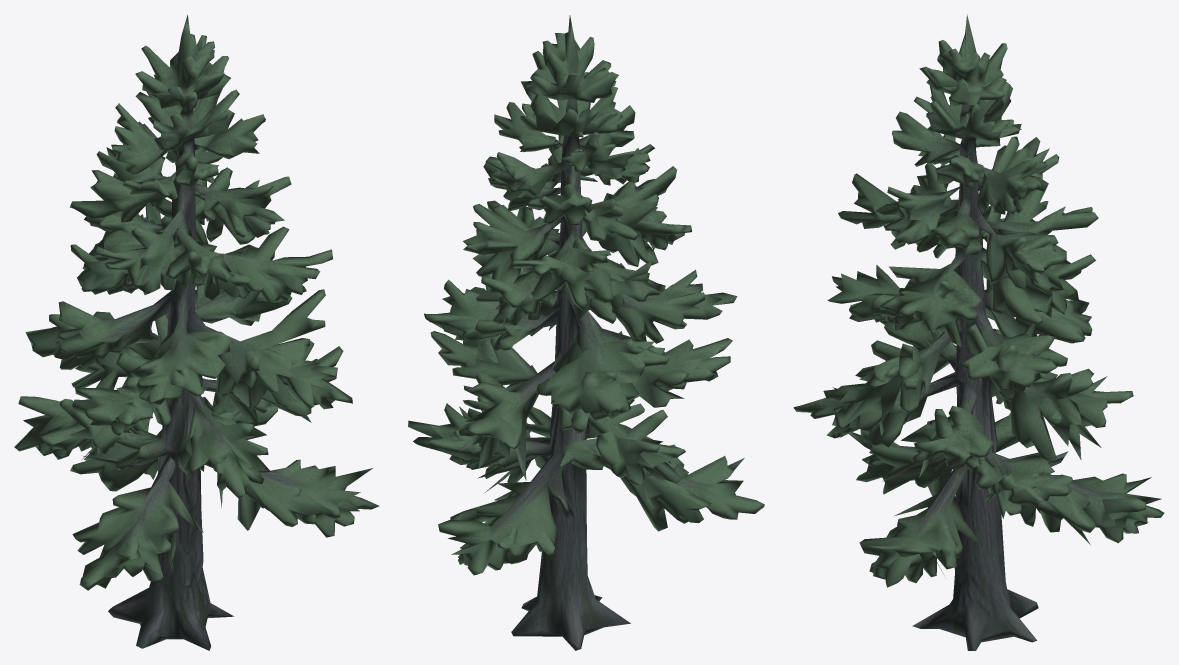
Rendered from pine_tree.glb.
The picture shows the model from 3 angles, left to right: view 1: azimuth 30°, elevation 25°; view 2: azimuth 150°, elevation 25°; view 3: azimuth 270°, elevation 25°; orthographic projection. The views are drawn at different scales.
Parts seen in each view (by area): view 1: Mesh_0; view 2: Mesh_0; view 3: Mesh_0.
Part boxes in pixels (x1,y1,x2,y2): Mesh_0: (14,15,379,650); Mesh_0: (408,15,764,650); Mesh_0: (793,14,1164,650).
Bounding box in the file's own units: 0.9877 × 1.91 × 1.04.
Materials: 1 (1 with a texture image).
